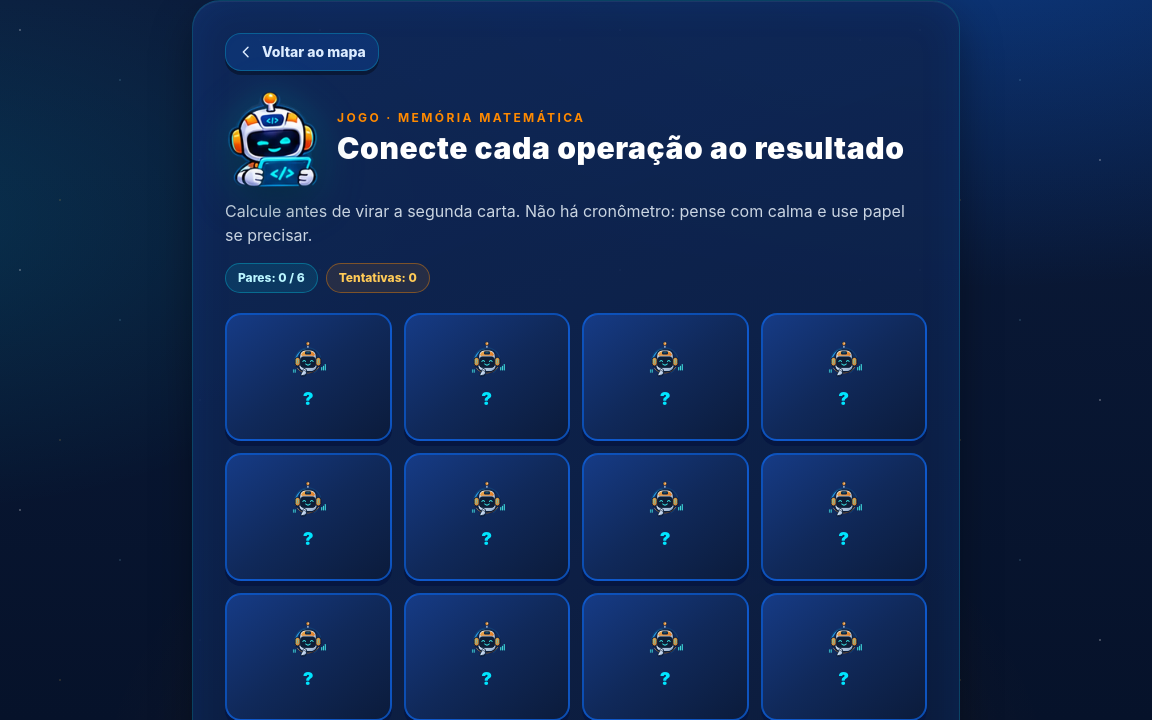
Test: MemoryScreen › hides a mismatch after a pause without counting it as a pair
The image size is (1152, 720).
What coordinates should you click on to do the following:
click the 8th button "?"
I would click on:
 (844, 517)
Its box is [760,453,927,581].
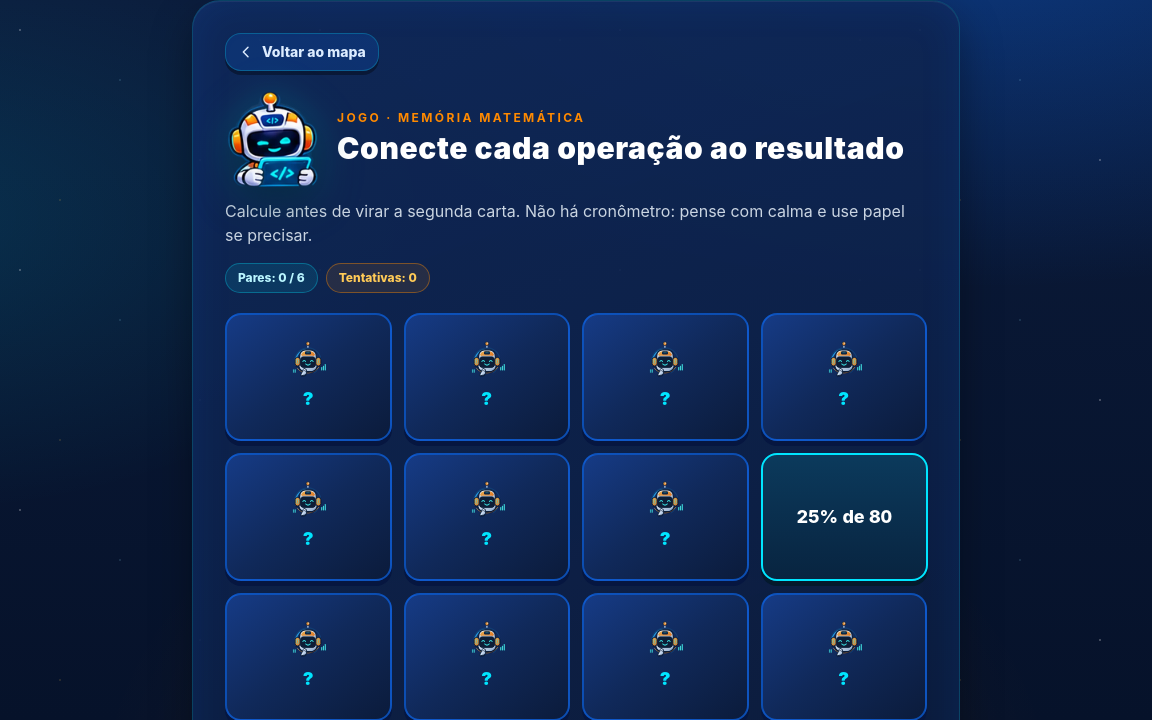
What coordinates should you click on to do the following:
click the 6th button "?"
I would click on:
 (487, 517)
Its box is [404,453,570,581].
Wait 3000 ms
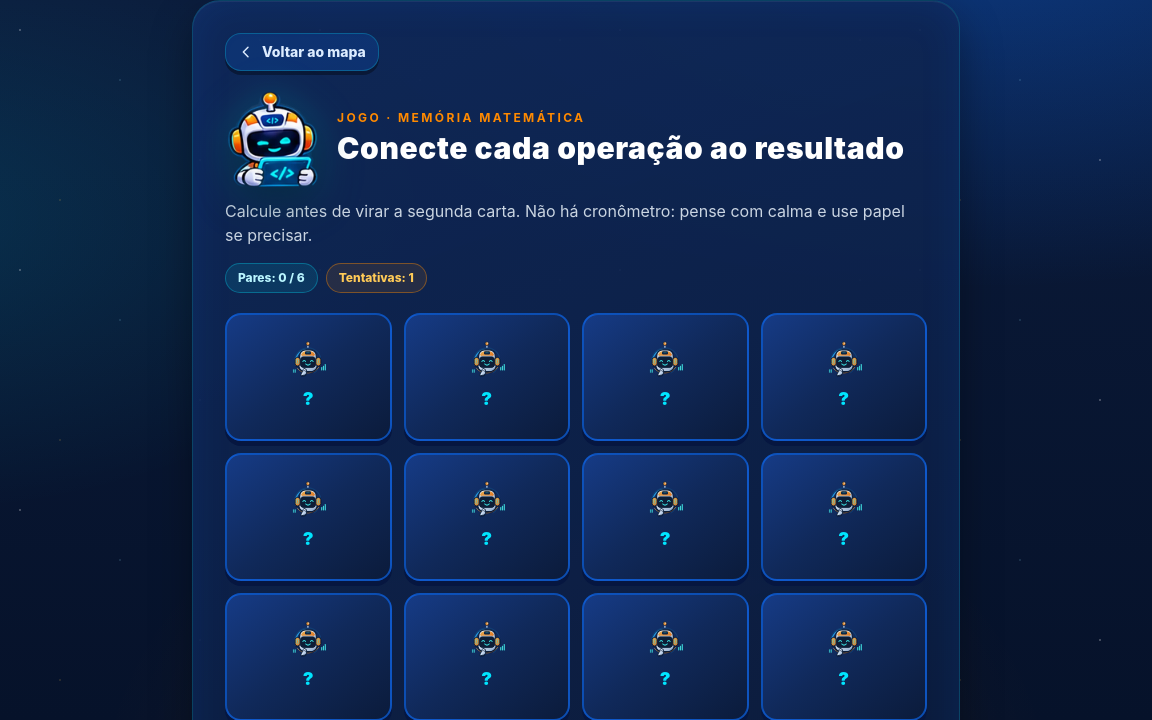
Expected: the text "Tentativas: 1" is shown, [326,263,427,293]
